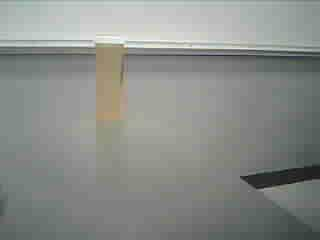Bottle A: (89, 32, 136, 129)
